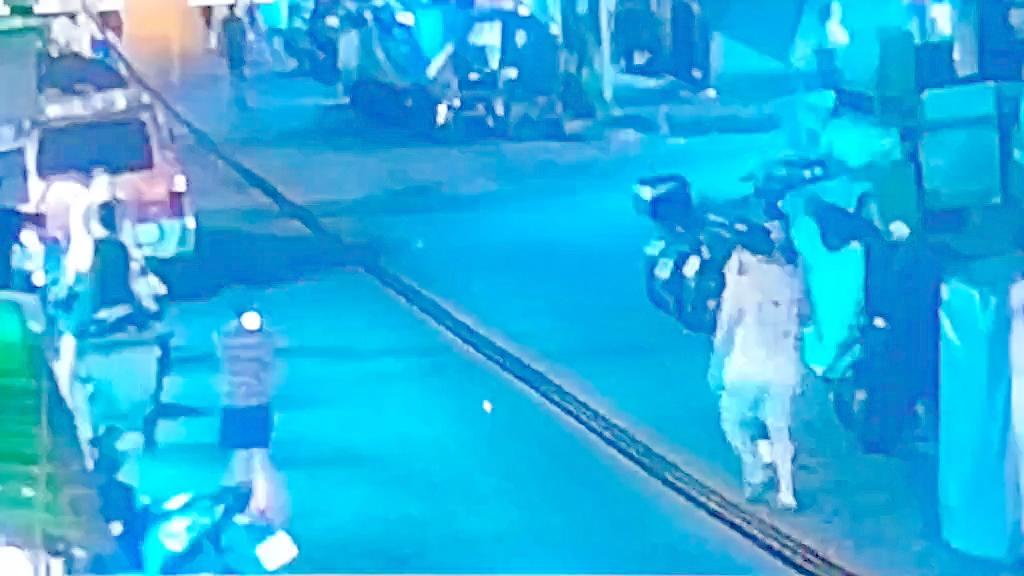Car: (13, 70, 242, 285)
Motor: (640, 139, 836, 351), (310, 0, 516, 146)
